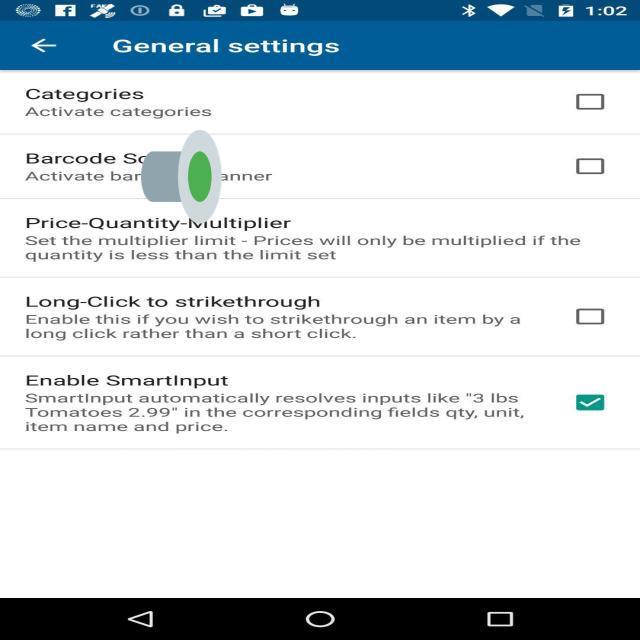social proof: (141, 90, 222, 263)
